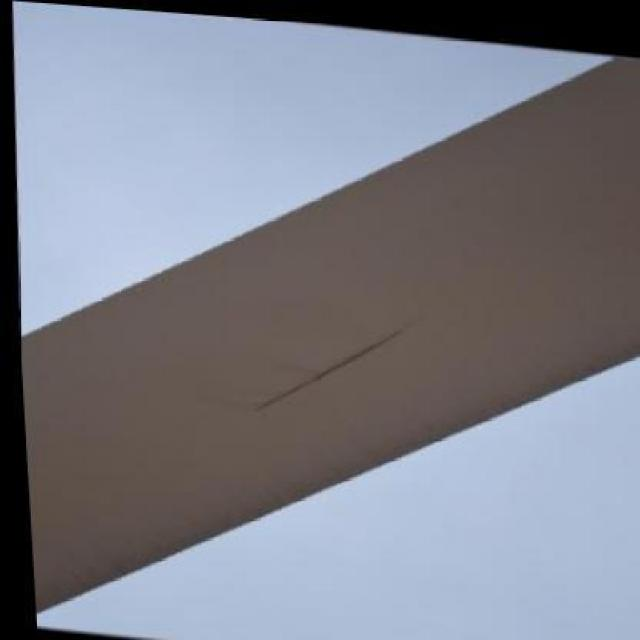Crack: (252, 320, 410, 412)
